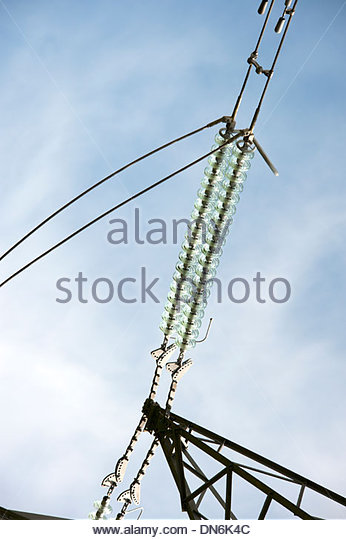isolator: (159, 133, 257, 350), (89, 499, 112, 520)
